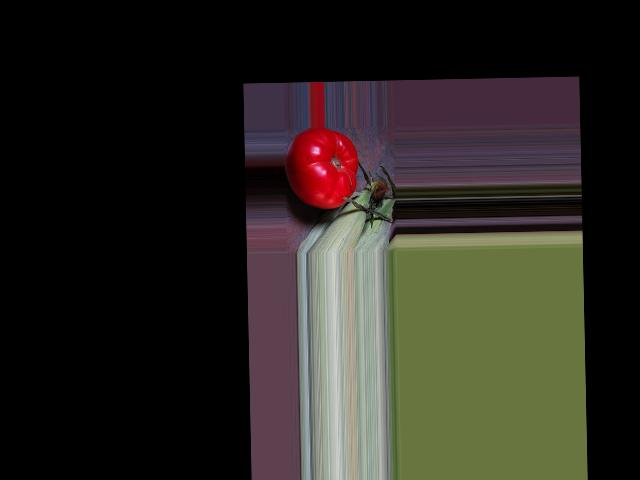tomato: (284, 127, 359, 210)
